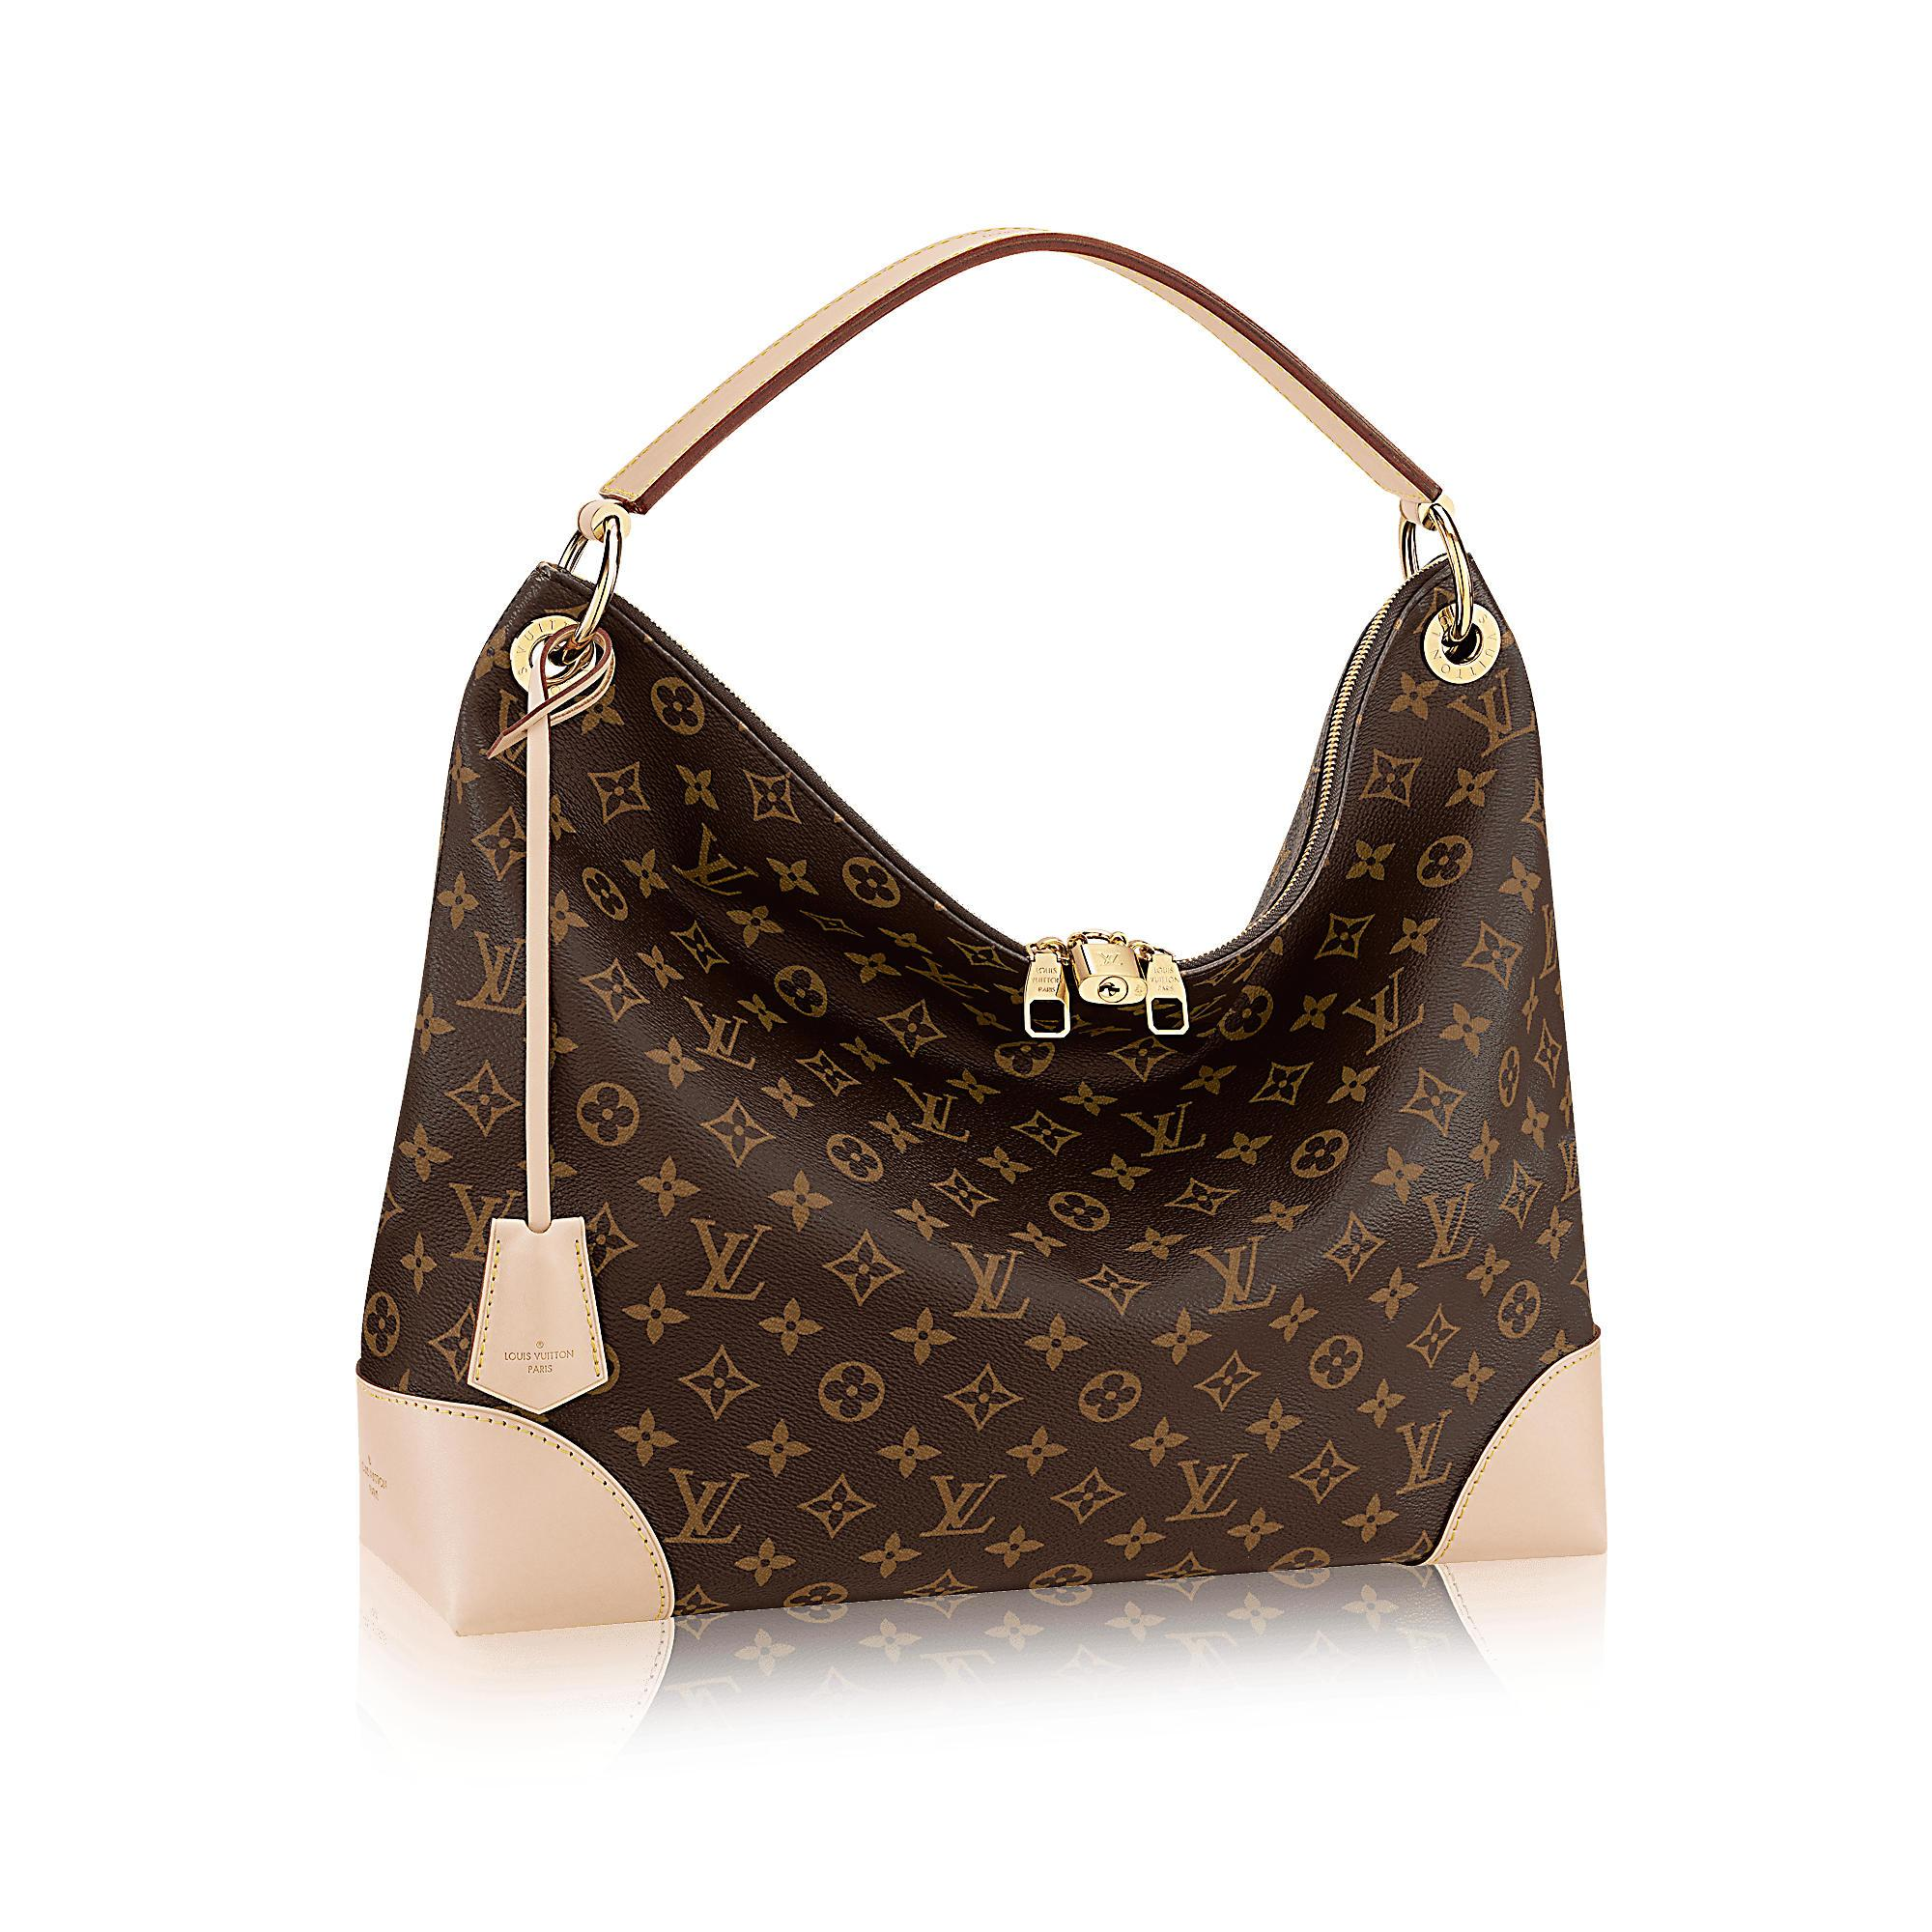LOUIS-VUITTON: (676, 1210, 771, 1302), (658, 1454, 747, 1550), (1341, 964, 1430, 1054), (948, 1235, 1031, 1329), (1445, 674, 1539, 757), (449, 920, 531, 1016), (1192, 1230, 1277, 1318), (667, 814, 754, 895), (920, 1465, 1003, 1546), (1162, 1451, 1247, 1529), (676, 991, 757, 1069), (886, 1069, 968, 1146), (1414, 1184, 1481, 1274), (1115, 1100, 1214, 1159), (1394, 1405, 1454, 1495), (899, 948, 987, 1007), (453, 1180, 513, 1263)
